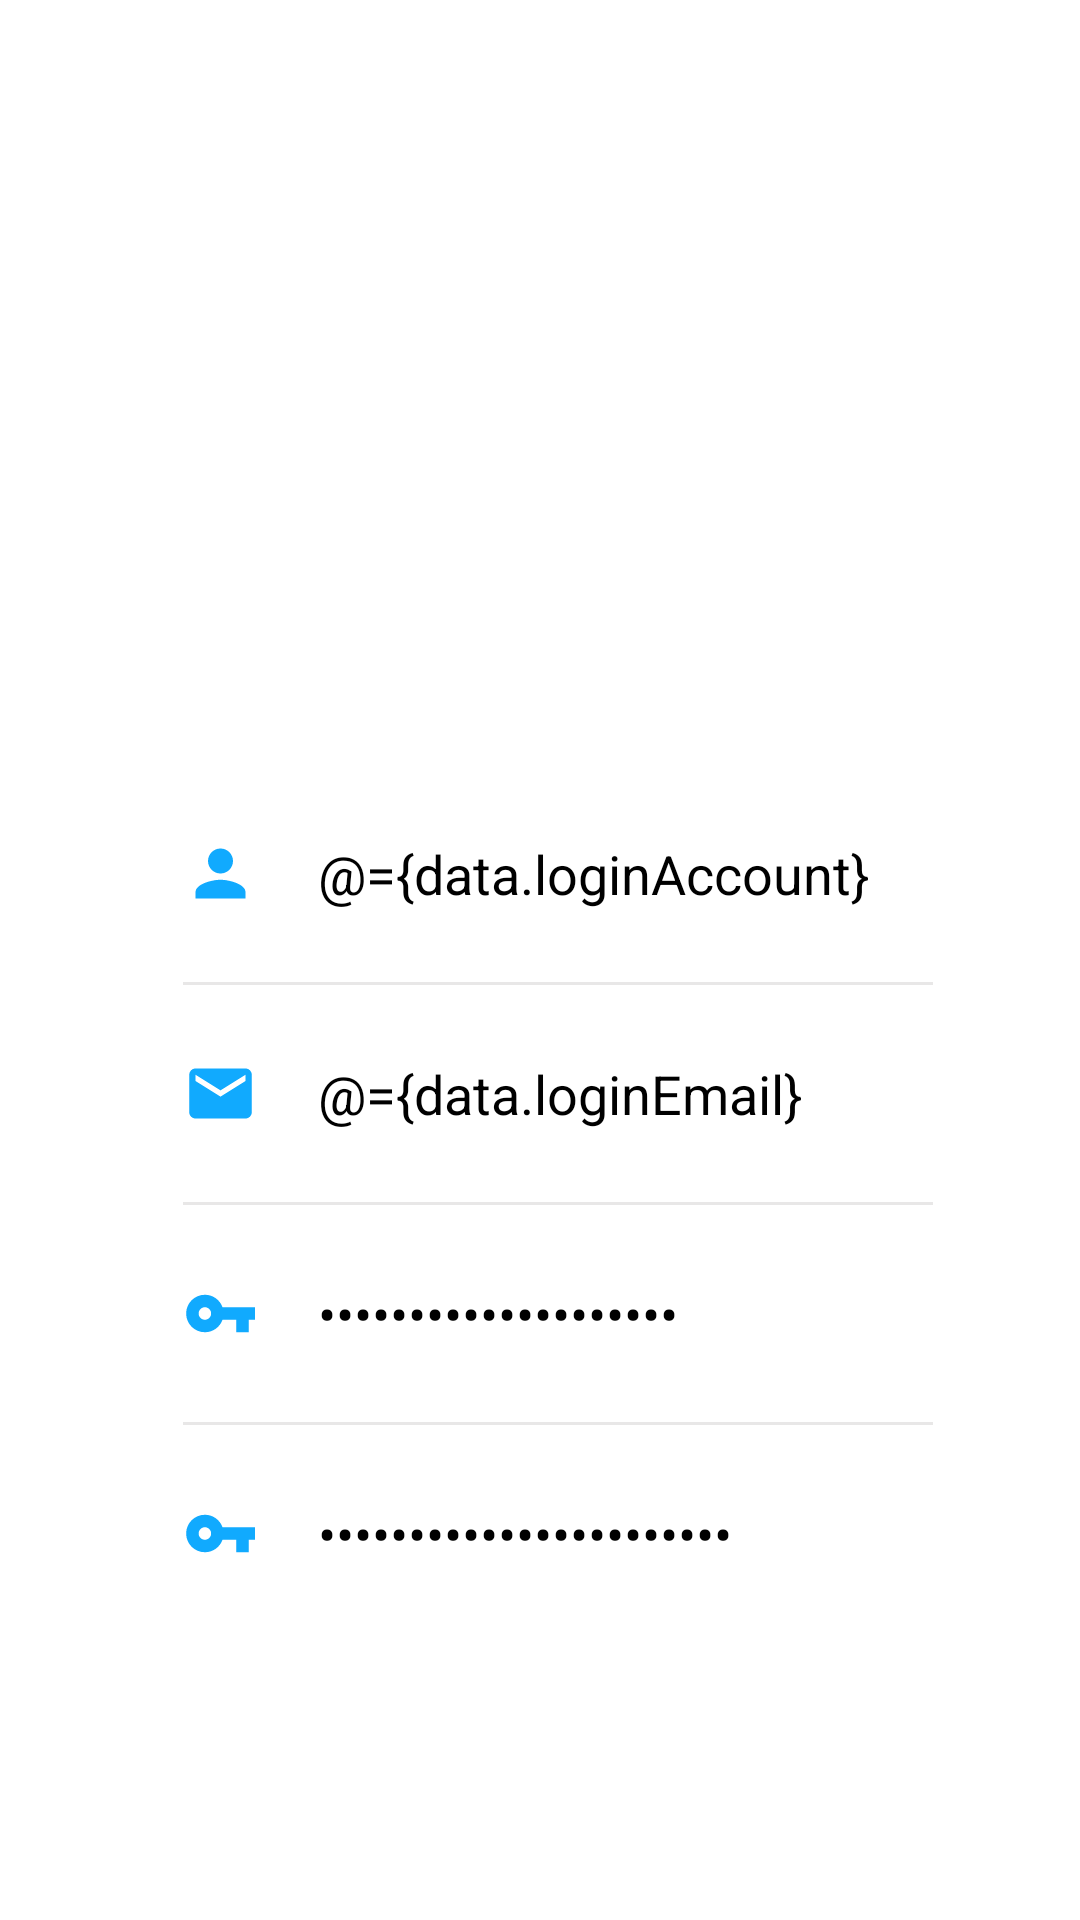

Point at icon controls on the screen. Image size 1080w x 1920h, points as [x,y].
person: [220,873]
vpn key: [220,1313], [220,1533]
